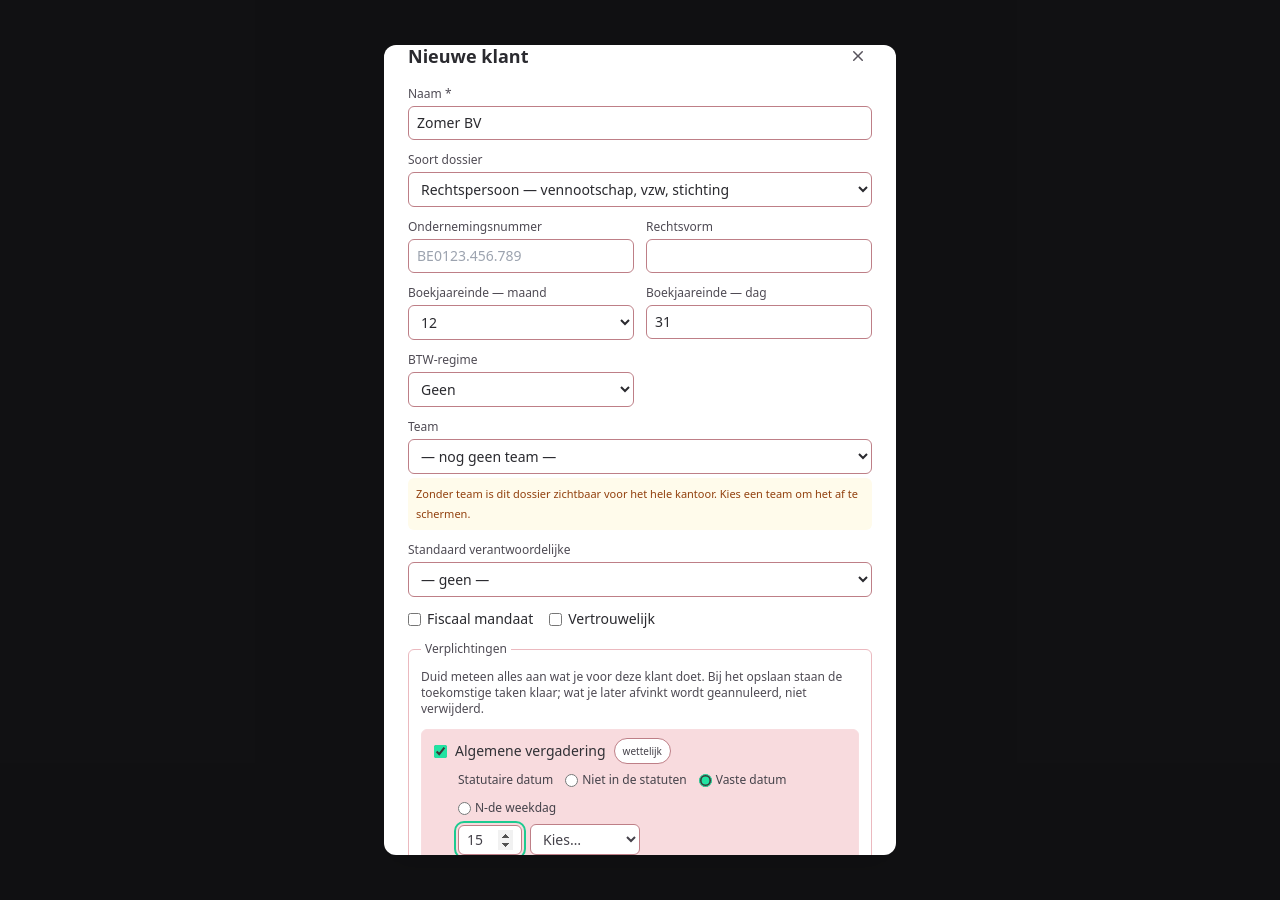
ClientFormModal — de statutaire AV-datum: tonen == opslaan › laat geen parameters achter van een vorm die niet meer op het scherm staat
Earlier steps of the test are not shown.
Later steps or results of the test are not shown.
(page scrolled)
Step 1. Select "juni" in the dropdown named "Maand" → (585, 840), box [530,824,640,855]
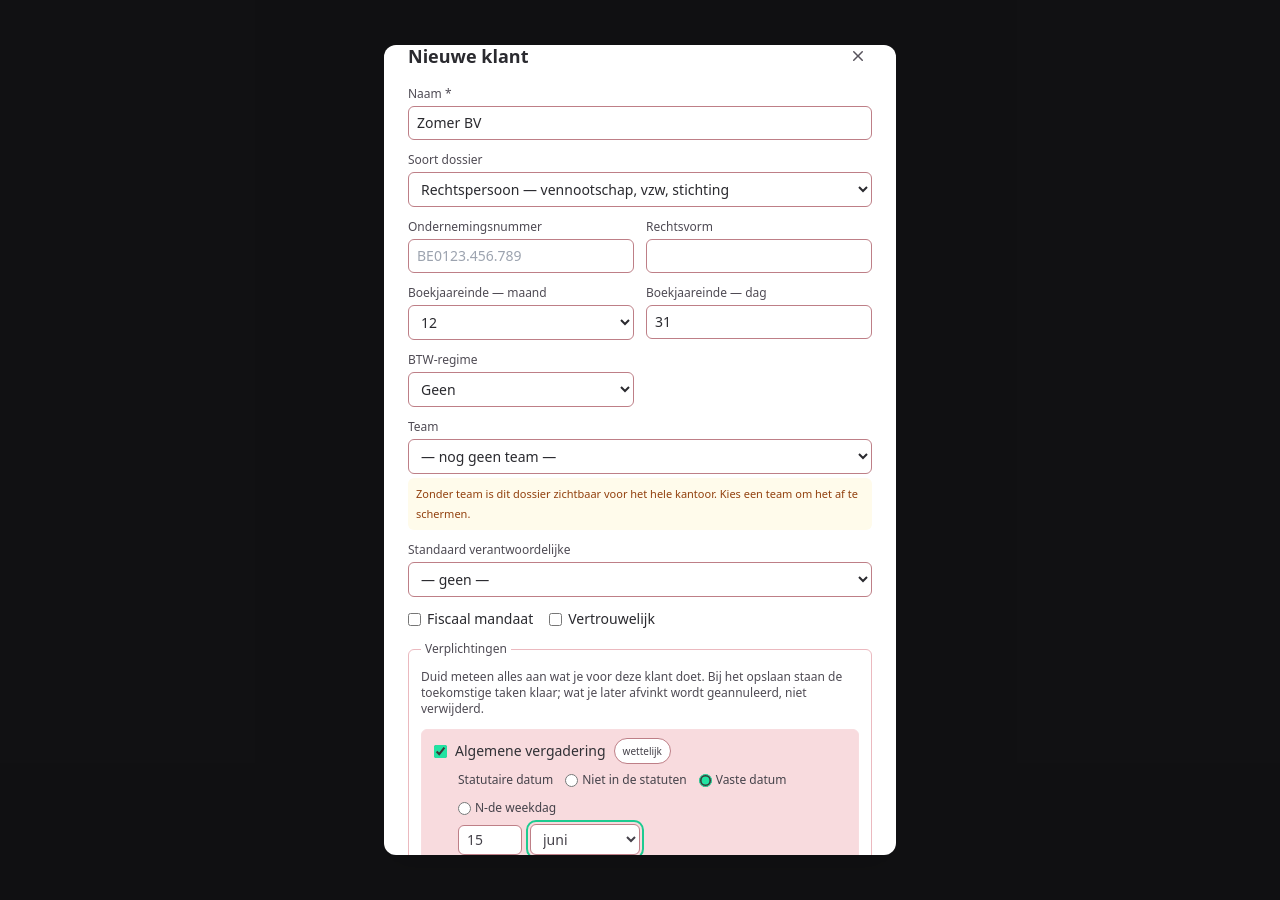
Step 2. Click the radio button labelled "N-de weekdag" → (464, 808), box [458,802,471,814]
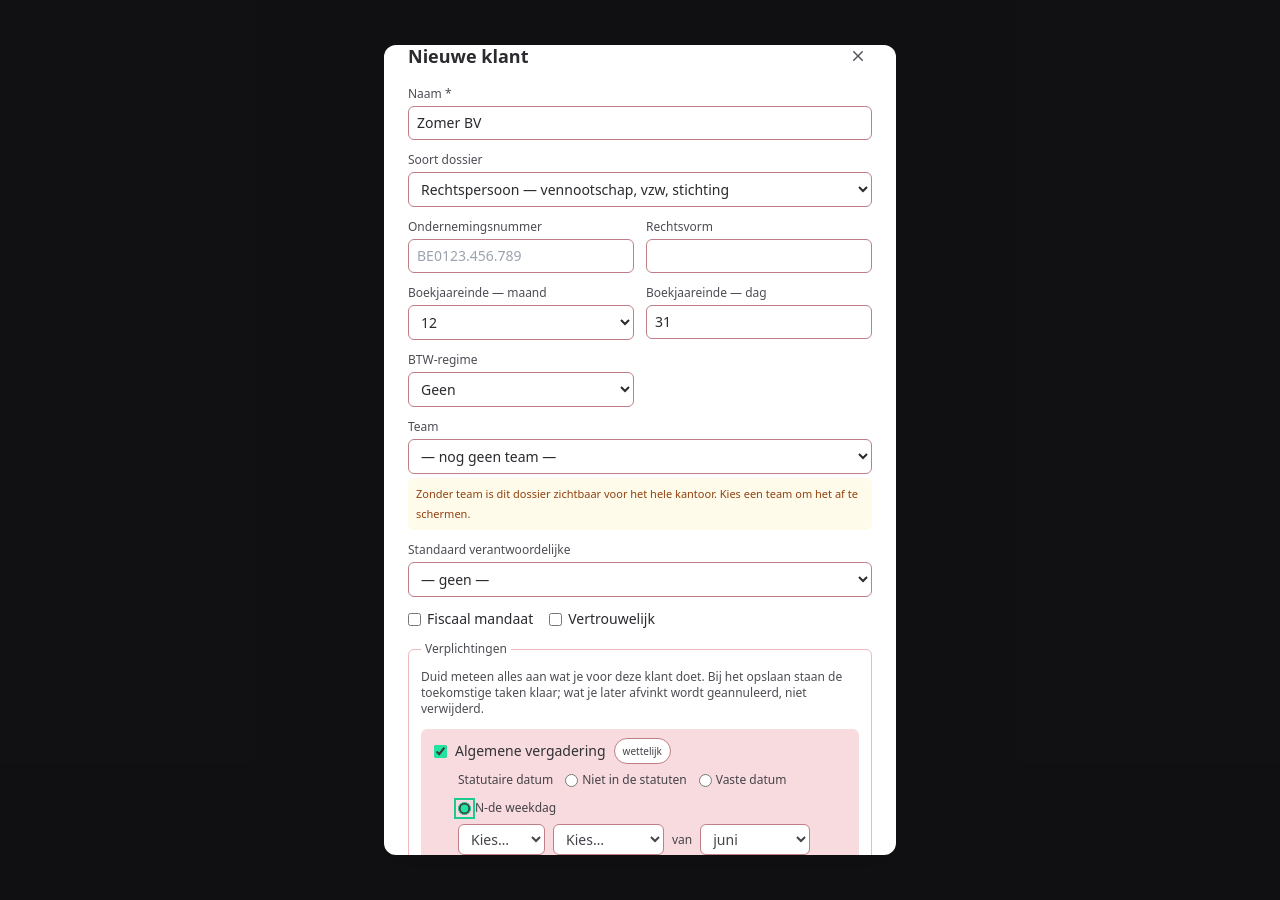
Check: the dropdown named "Maand" shows "juni", box [700,824,810,855]
